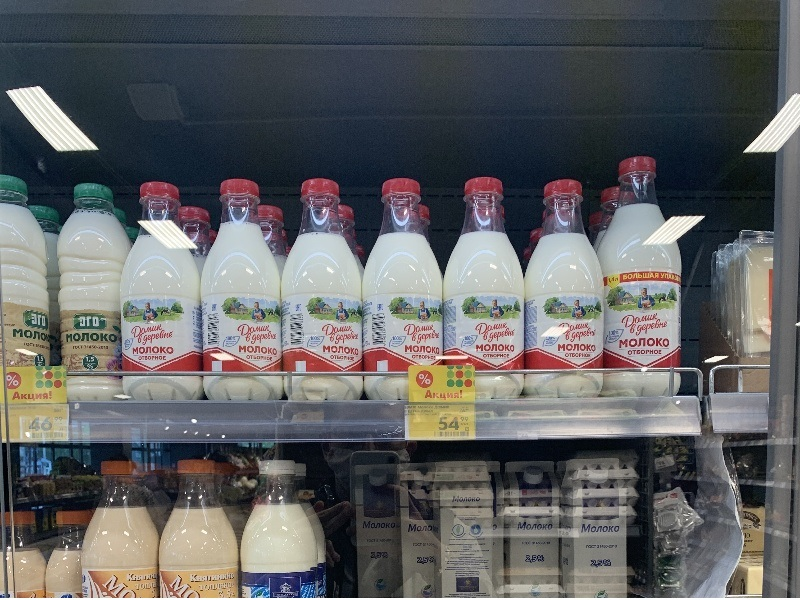milk: (593, 155, 693, 404), (191, 174, 294, 406), (109, 179, 213, 407), (277, 176, 375, 411), (439, 172, 535, 403), (516, 173, 611, 404), (357, 172, 446, 407), (56, 181, 129, 408)
